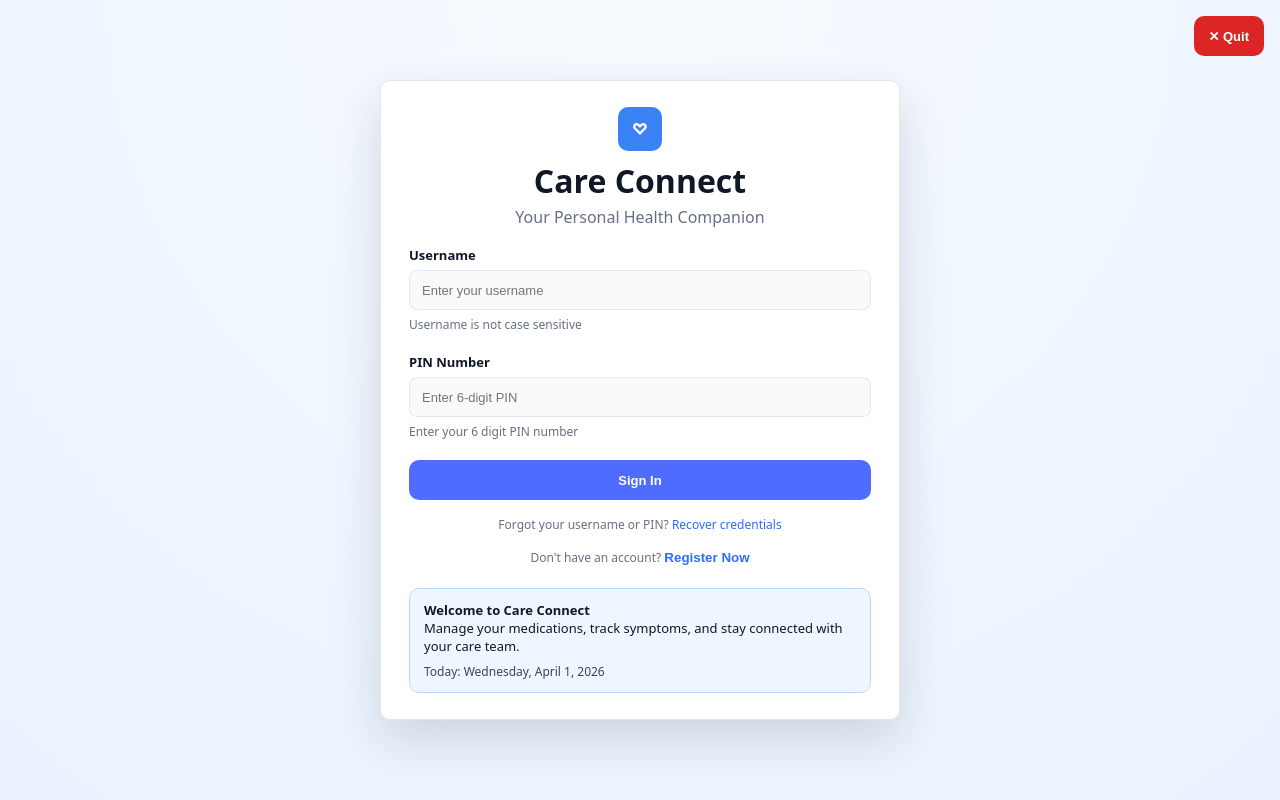
it: Login Screen - Comprehensive Tests › Validation - Error Cases › shows error when PIN is empty
Step 1. Type "testuser" into the field with placeholder "Enter your username" → (640, 290), box [409,270,871,310]
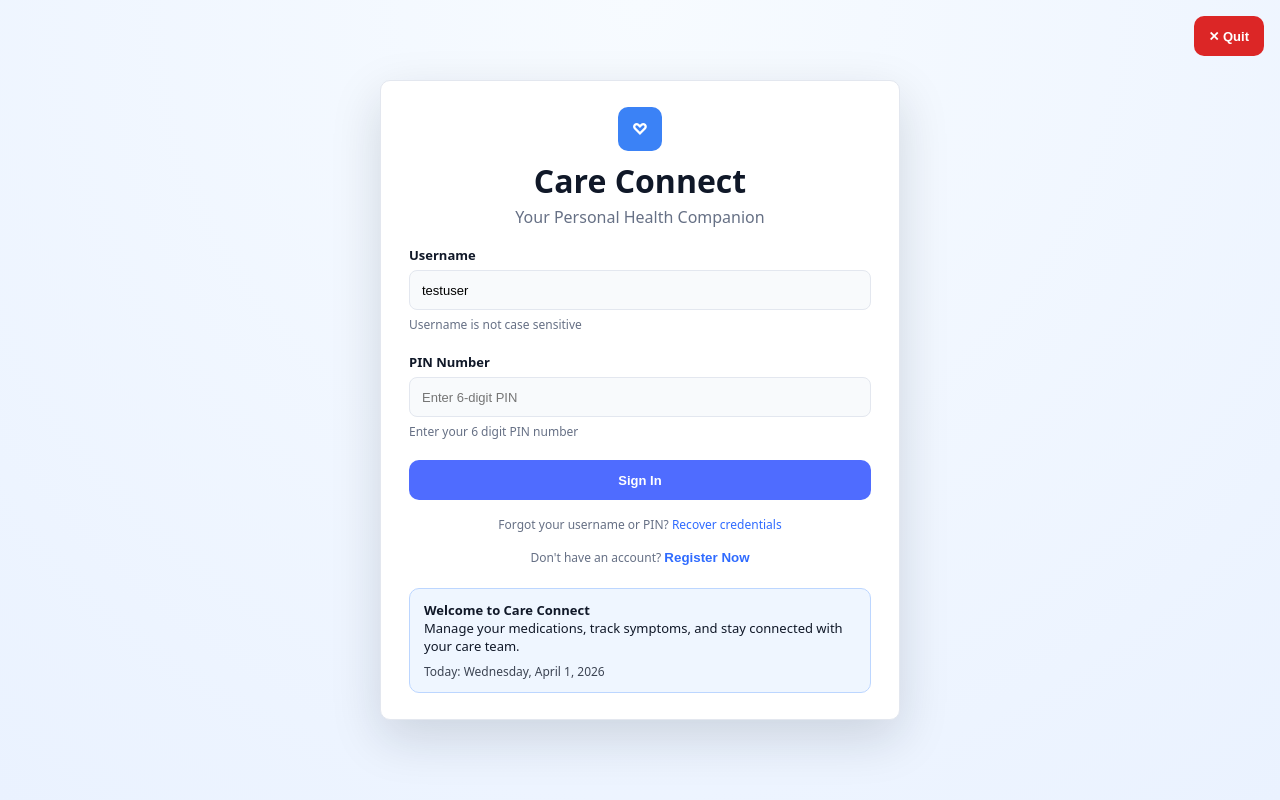
Step 2. Click the button "Sign In" → (640, 480), box [409,460,871,500]
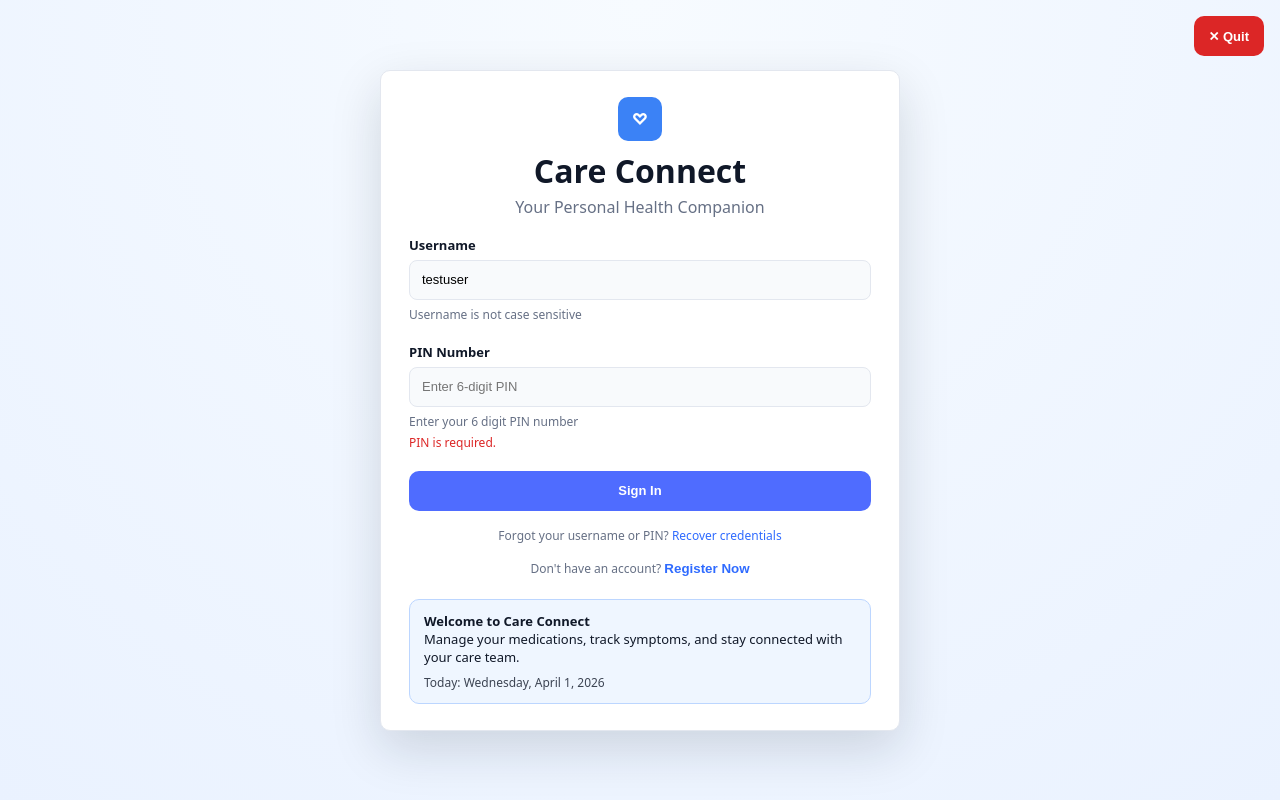
Expected: the text "PIN is required." is shown, [409,434,496,450]
